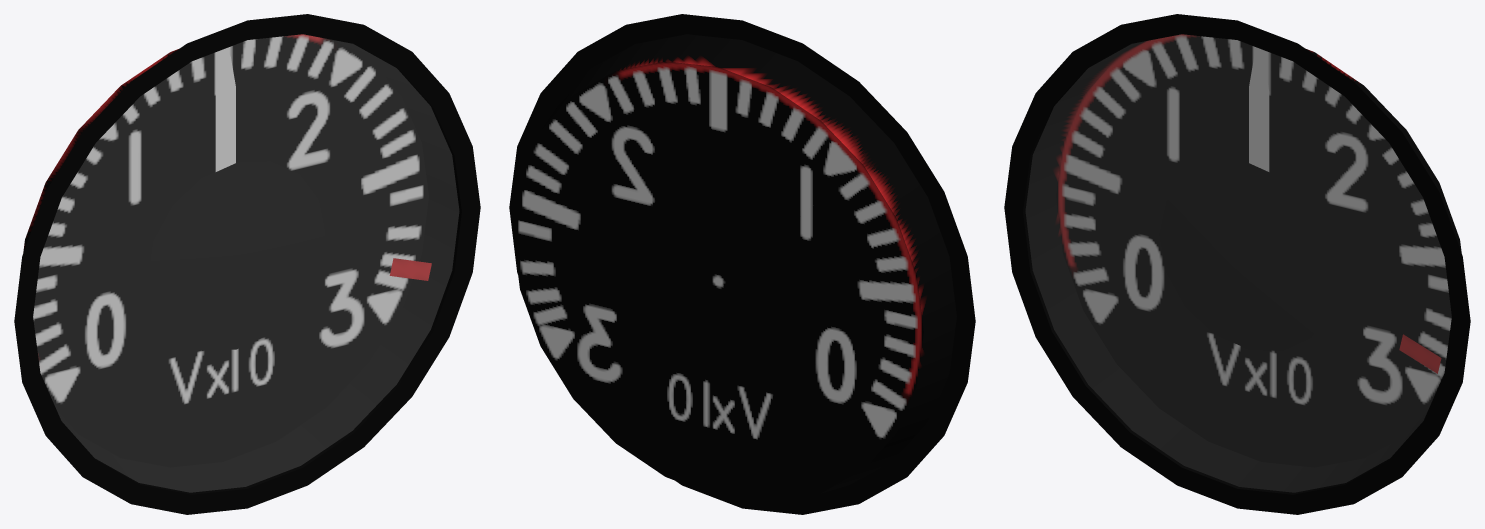
3 renders of one model, left to right at view 1: azimuth 30°, elevation 25°; view 2: azimuth 150°, elevation 25°; view 3: azimuth 330°, elevation 25°, orthographic.
Visible parts, largest first — view 1: housing, glass, thing, v-1_needle, label28.5V; view 2: housing; view 3: housing, glass, thing, v-1_needle, label28.5V.
Part boxes in pixels (<box>): housing: <box>14,14,480,514</box>; glass: <box>33,34,458,492</box>; thing: <box>147,161,325,350</box>; v-1_needle: <box>215,48,235,171</box>; label28.5V: <box>389,258,431,280</box>; housing: <box>509,14,975,514</box>; housing: <box>1004,14,1470,514</box>; glass: <box>1026,34,1451,492</box>; thing: <box>1159,161,1337,350</box>; v-1_needle: <box>1249,48,1269,171</box>; label28.5V: <box>1399,334,1441,373</box>.
Size of the model in its own units: 0.0496 by 0.0496 by 0.00444.
2 materials, 1 textured.
